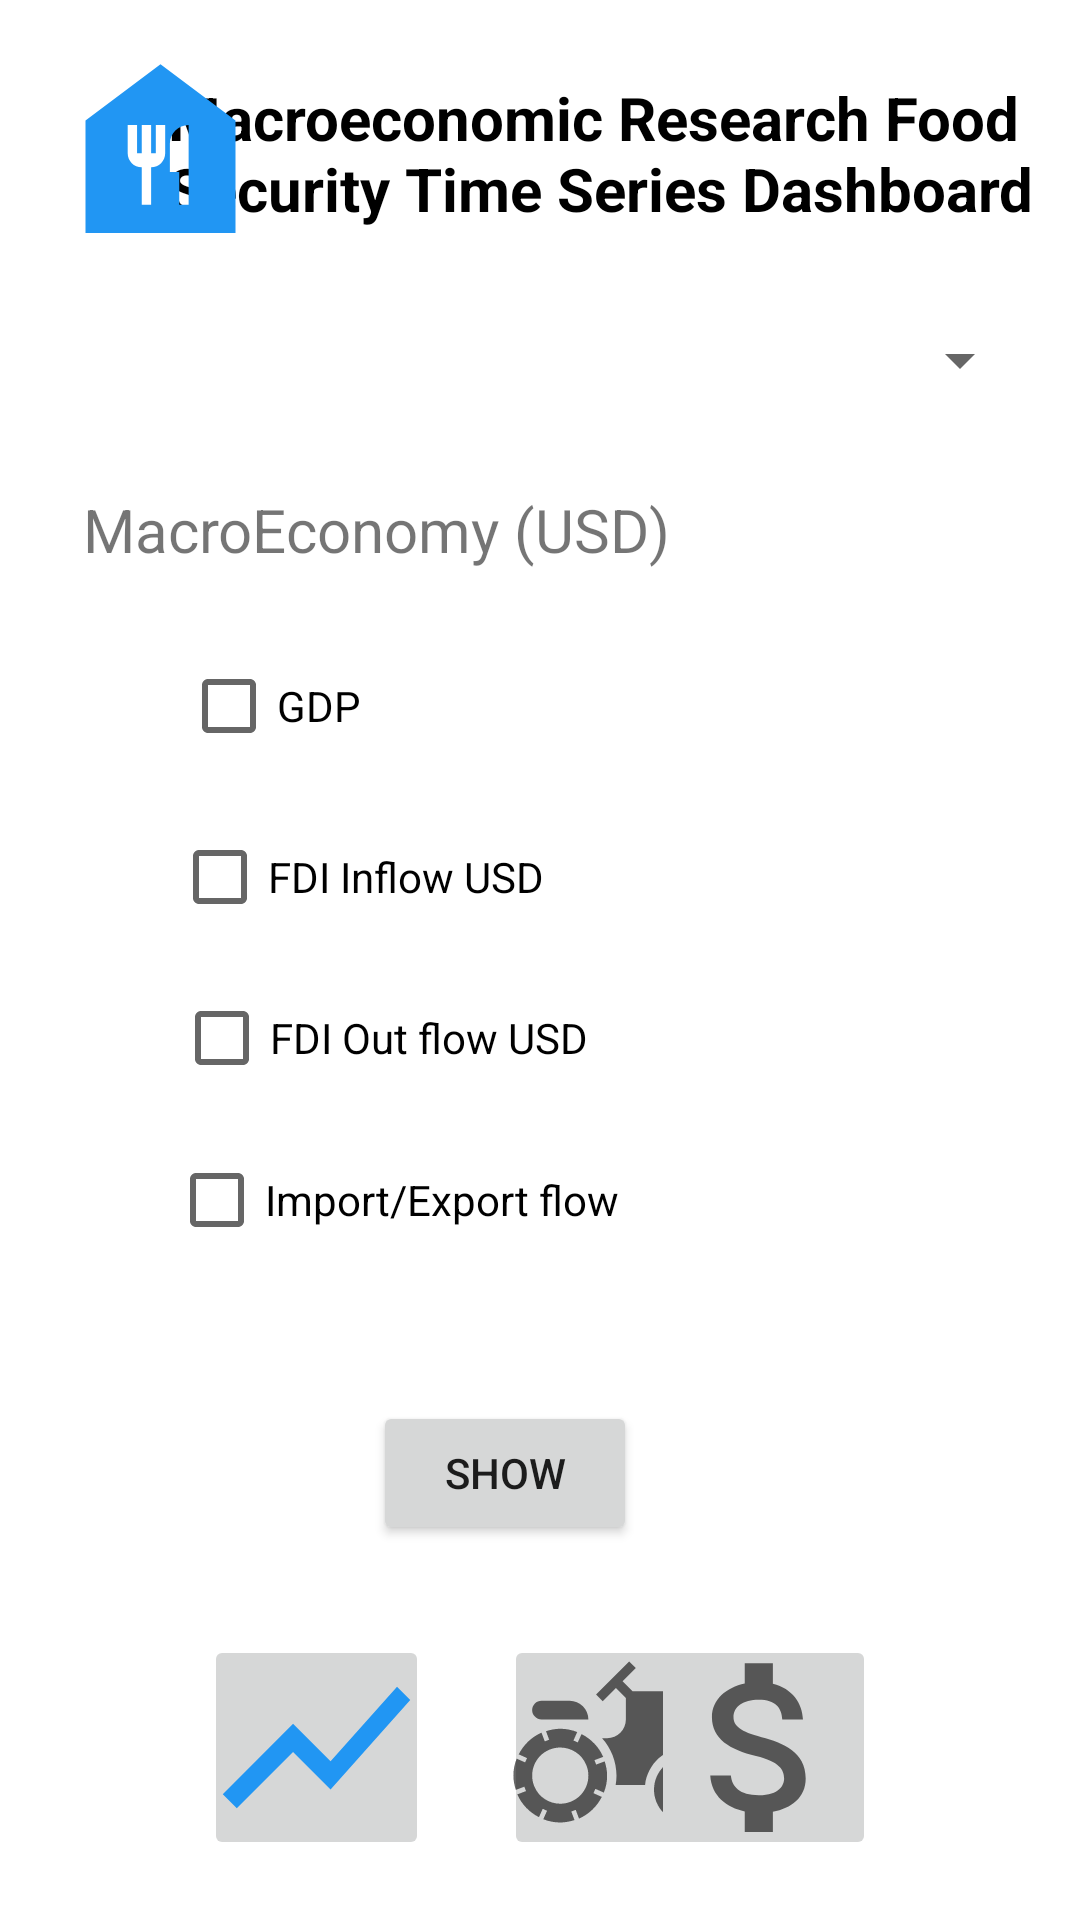

Icon bounding boxes for this 1080w x 1920h phone screenshot, format (x1, y1, x2, y2):
agriculture unselect: (513, 1653, 729, 1842)
attach money unselect: (651, 1653, 864, 1842)
